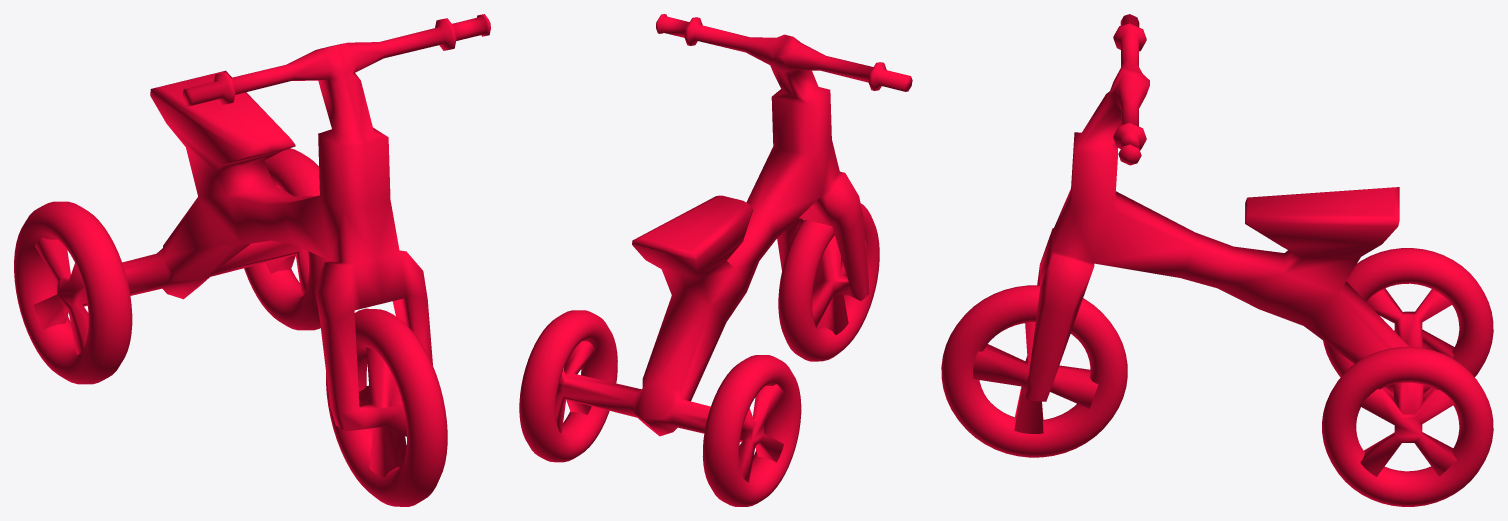
The model's file is bike.fbx.
The picture shows the model from 3 angles, left to right: view 1: azimuth 30°, elevation 25°; view 2: azimuth 150°, elevation 25°; view 3: azimuth 270°, elevation 25°; orthographic projection. The views are drawn at different scales.
Parts seen in each view (by area): view 1: Cube; view 2: Cube; view 3: Cube.
Boxes of the visible parts, <box> form: Cube: <box>14,14,490,506</box>; Cube: <box>519,14,912,506</box>; Cube: <box>941,14,1493,506</box>.
Size of the model in its own units: 199 by 263 by 341.
